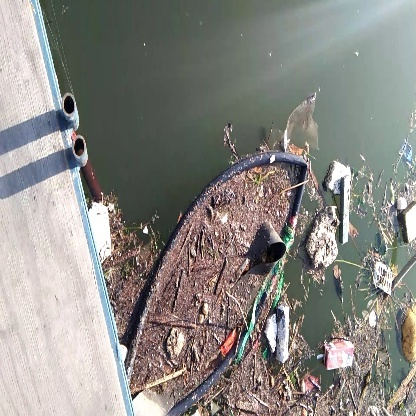milk-box: (322, 334, 359, 374)
